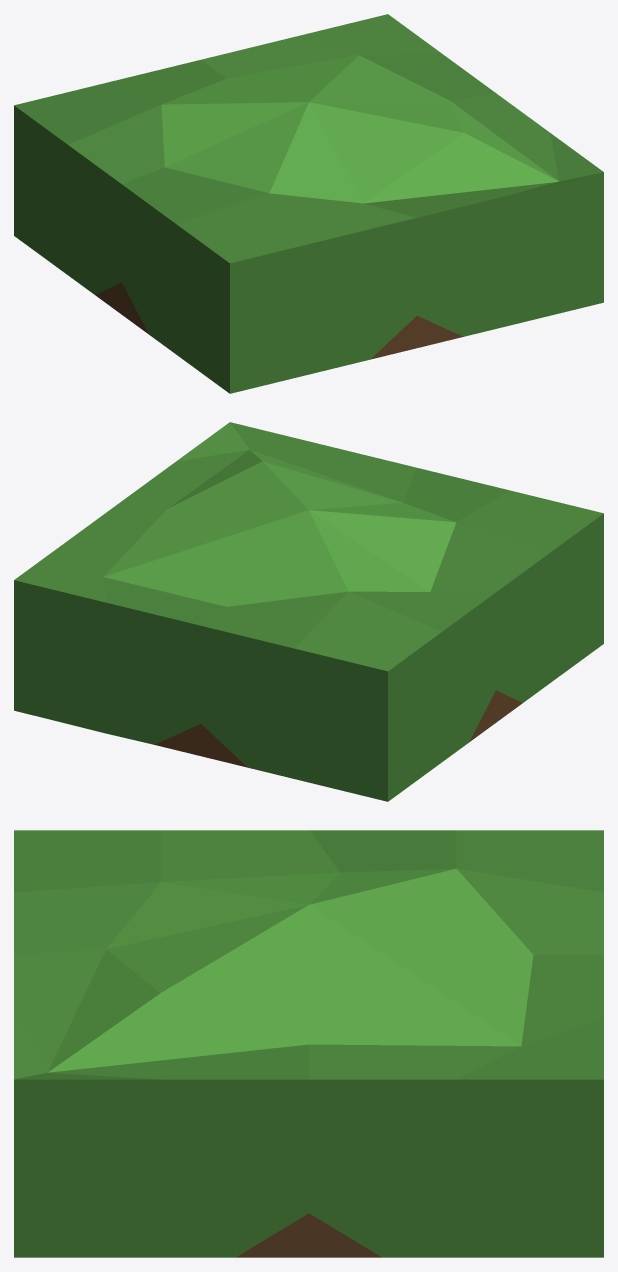
The model's file is grass_dirt_full.fbx.
The picture shows the model from 3 angles, top to bottom: view 1: azimuth 30°, elevation 25°; view 2: azimuth 150°, elevation 25°; view 3: azimuth 270°, elevation 25°; orthographic projection. The views are drawn at different scales.
Visible parts, largest first — view 1: Dirt_Grass_Full; view 2: Dirt_Grass_Full; view 3: Dirt_Grass_Full.
Boxes of the visible parts, box(x1,y1,x2,y2) form: Dirt_Grass_Full: box(14, 14, 603, 393); Dirt_Grass_Full: box(14, 422, 603, 801); Dirt_Grass_Full: box(14, 830, 603, 1257).
Size of the model in its own units: 300 by 149 by 300.
